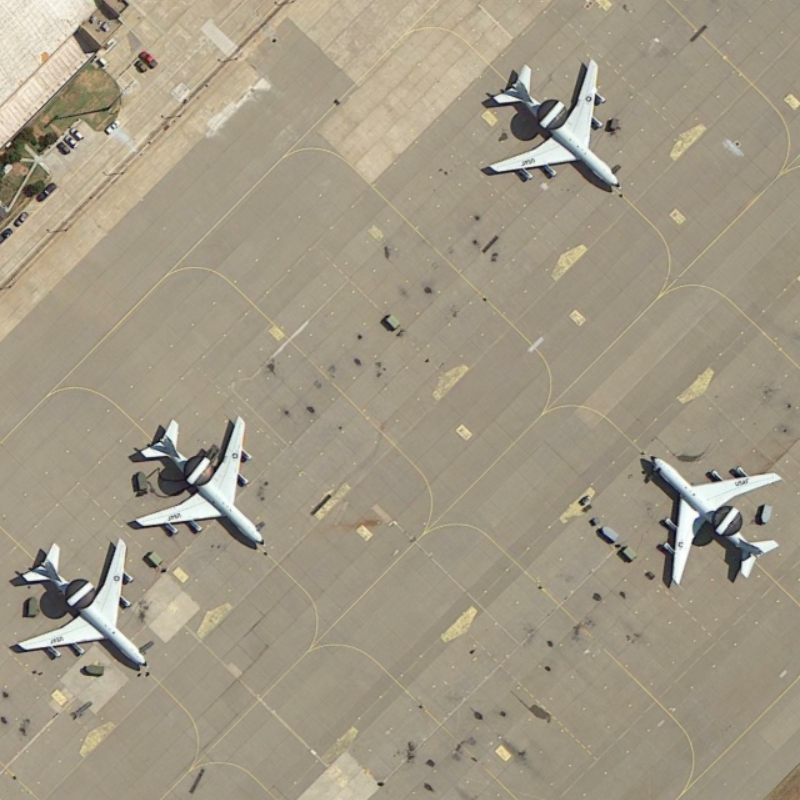A7: (475, 48, 632, 194), (125, 408, 274, 555), (637, 449, 788, 589), (12, 541, 157, 676)
